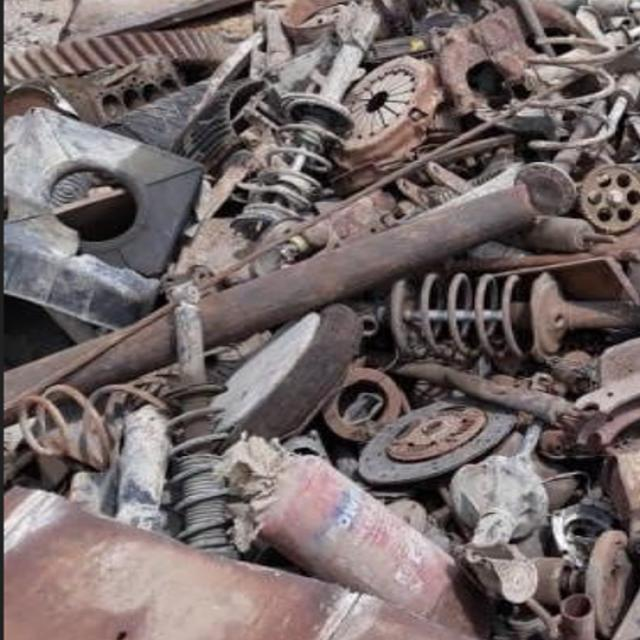shock absorber: (234, 8, 381, 235), (354, 272, 634, 362), (157, 284, 239, 561)
